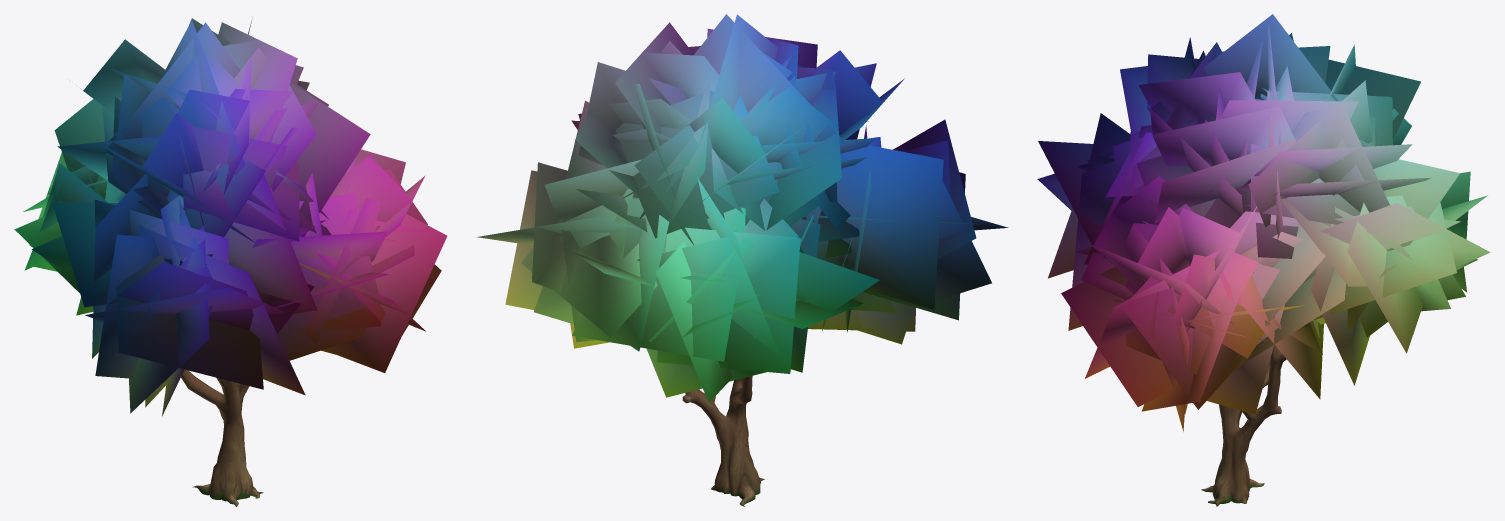
3 views of the same model, side by side, from view 1: azimuth 30°, elevation 25°; view 2: azimuth 150°, elevation 25°; view 3: azimuth 270°, elevation 25° (orthographic). The views are drawn at different scales.
Visible parts, largest first — view 1: zw_gc_004c1_lod0, zw_gc_004c2_lod0; view 2: zw_gc_004c1_lod0, zw_gc_004c2_lod0; view 3: zw_gc_004c1_lod0, zw_gc_004c2_lod0.
Part boxes in pixels (x1=…): zw_gc_004c1_lod0: x1=14, y1=16, x2=447, y2=416; zw_gc_004c2_lod0: x1=181, y1=369, x2=263, y2=506; zw_gc_004c1_lod0: x1=476, y1=14, x2=1008, y2=402; zw_gc_004c2_lod0: x1=682, y1=376, x2=764, y2=506; zw_gc_004c1_lod0: x1=1037, y1=14, x2=1490, y2=431; zw_gc_004c2_lod0: x1=1201, y1=323, x2=1308, y2=506.
Size of what is drawn, in the model's own units: 4.42 by 5.11 by 4.46.
